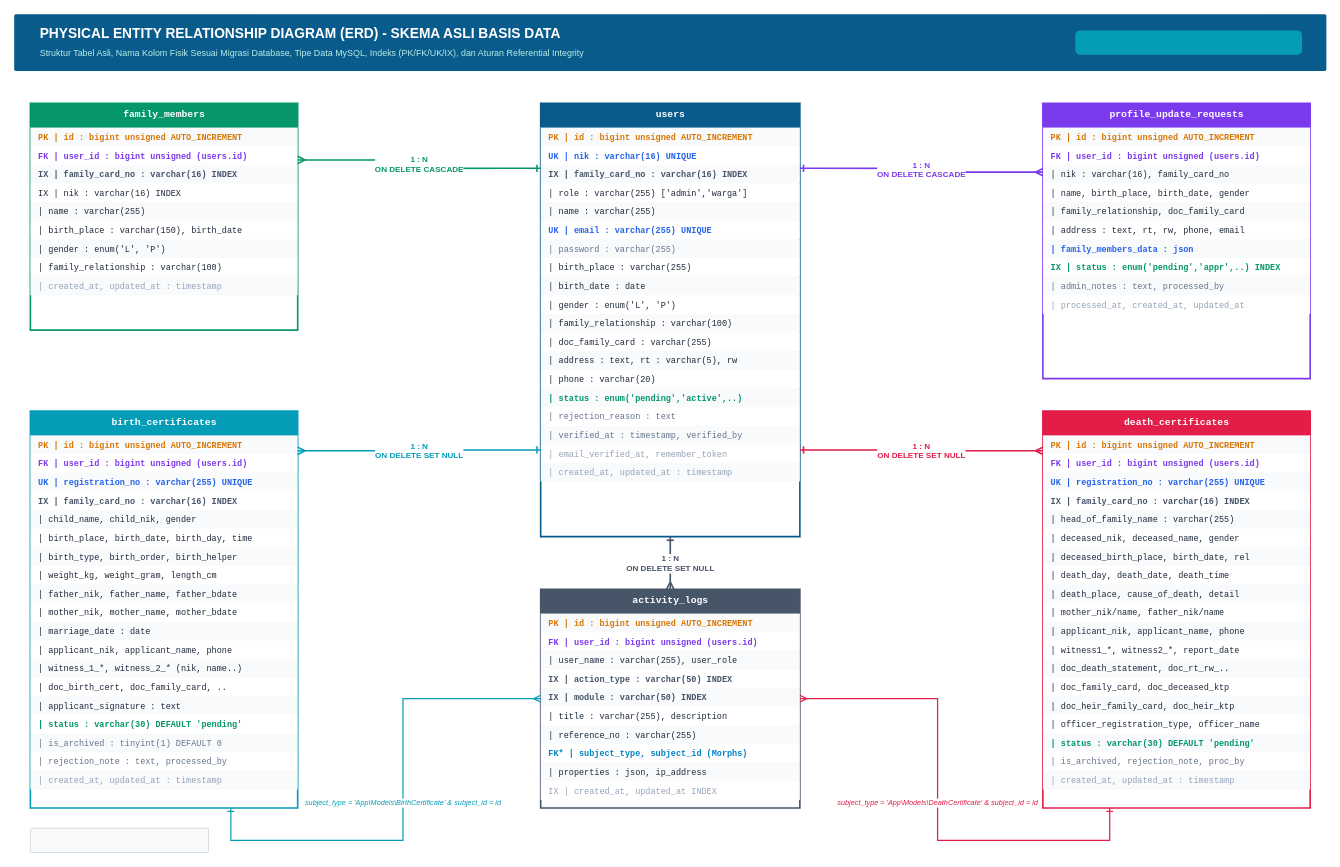
Image size: 1340x867. Some labels were removed from this diagram. The shapes that lost their labels are listed below. From the top down, each one's centre as x and y in pixels, then its label:
At pixel 1188 42: "VERSI ASLI DATABASE (PRODUCTION SCHEMA)".
At pixel 119 840: "PK = Primary Key | FK = Foreign Key UK = Unique Key | IX = Indexed".
